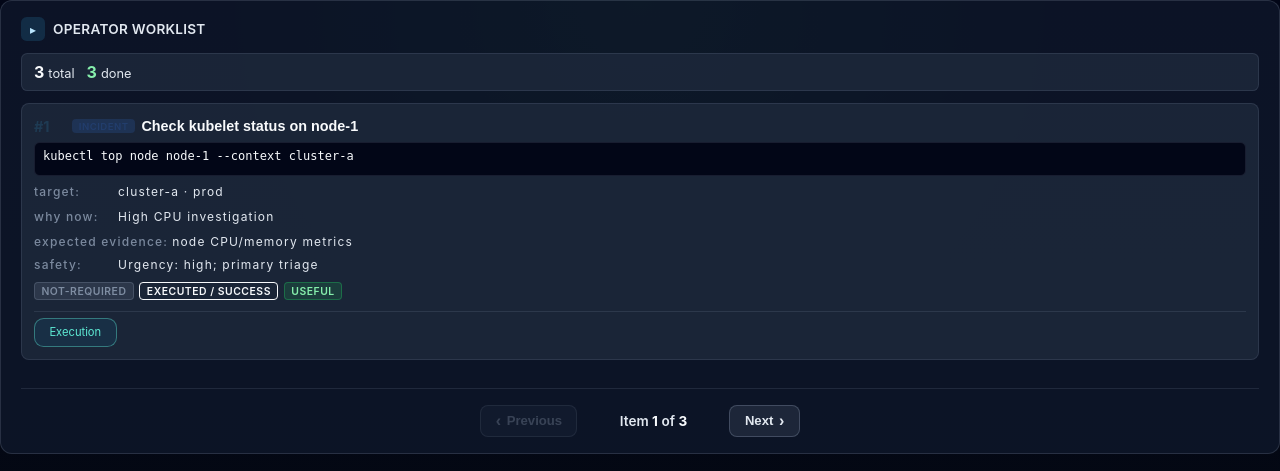
Scenario: Regression: Executed/reviewed item rendering › Executed-failed item shows failure and feedback states
The image size is (1280, 471).
# Navigate to page 2
Click the button with aria-label "worklist next page" at (765, 421), box [730,405,800,437]
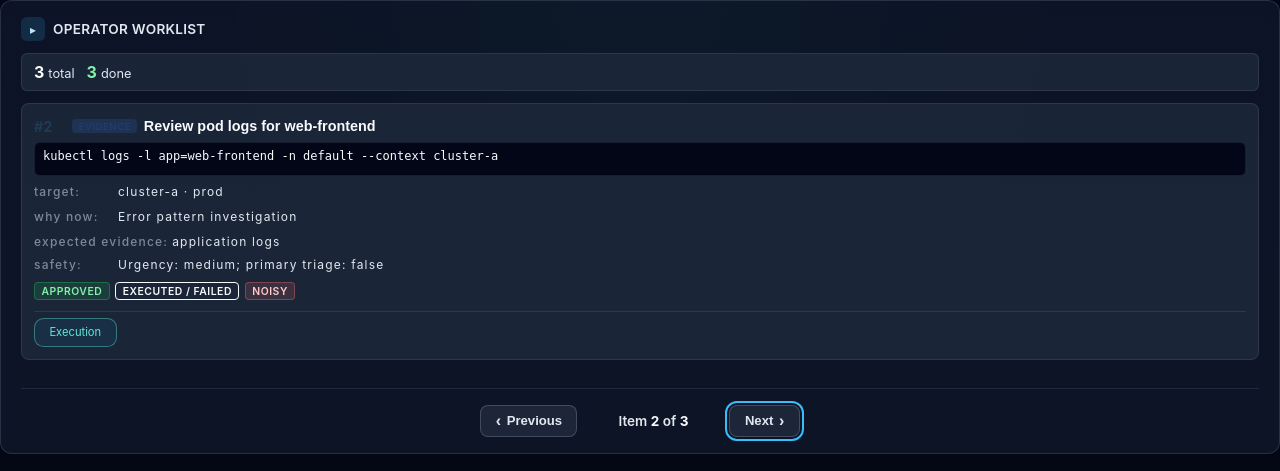
Check: the text "executed / failed" is shown, box [115,282,239,300]
Check: the text "noisy" is shown, box [245,282,295,300]
